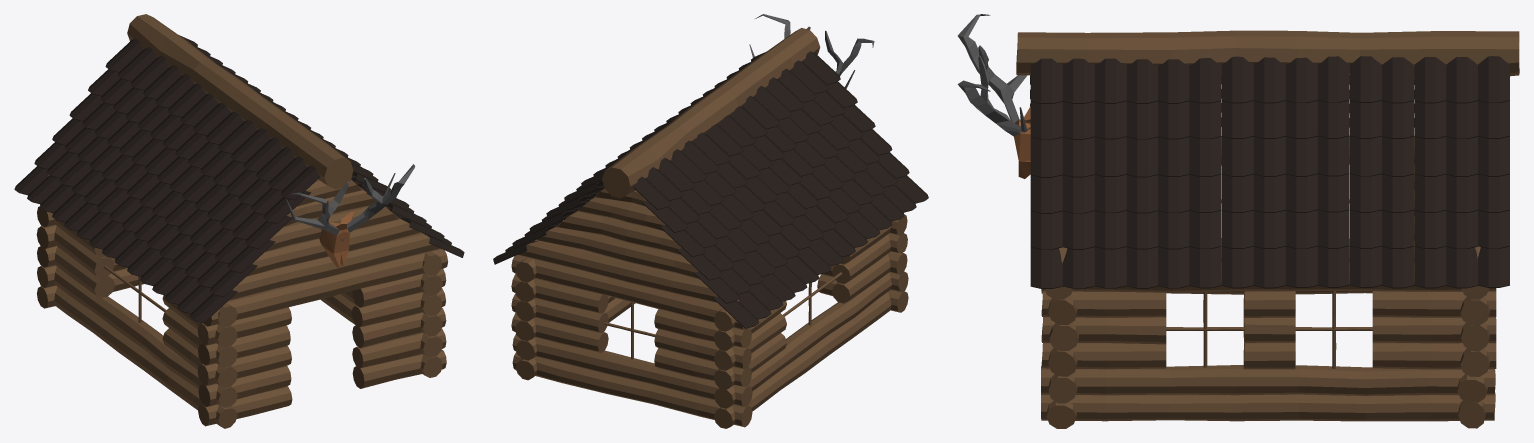
The model's file is hut.fbx.
3 renders of one model, left to right at view 1: azimuth 30°, elevation 25°; view 2: azimuth 150°, elevation 25°; view 3: azimuth 270°, elevation 25°, orthographic. The views are drawn at different scales.
Parts seen in each view (by area): view 1: House, Deer; view 2: House, Deer; view 3: House, Deer.
Boxes of the visible parts, x1,y1,x2,y2 form: House: (14,14,464,428); Deer: (286,164,415,267); House: (493,28,928,428); Deer: (749,14,874,88); House: (1016,30,1519,428); Deer: (957,14,1030,178).
Bounding box in the file's own units: 660 × 588 × 930.
